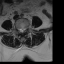CCS_normal: (21, 26, 23, 34)
LFS_normal: (24, 25, 26, 32)
LLS_normal: (23, 26, 24, 33)
RFS_normal: (18, 25, 19, 32)
RLS_normal: (19, 26, 21, 33)
